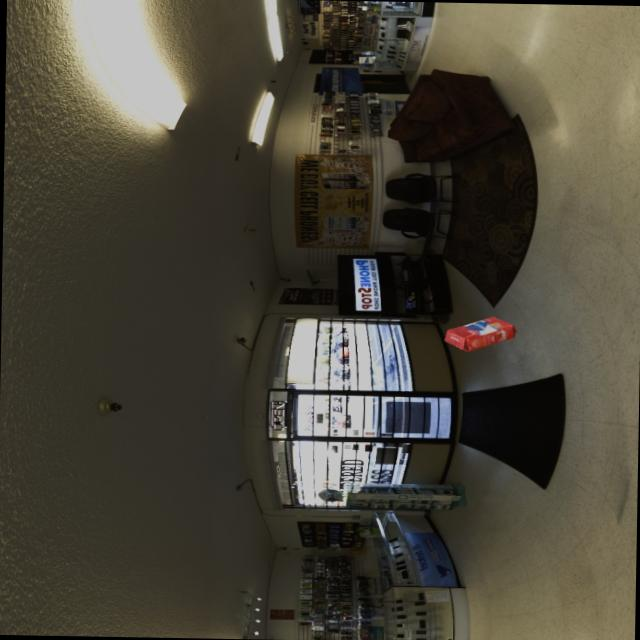mate bag: (442, 315, 514, 352)
